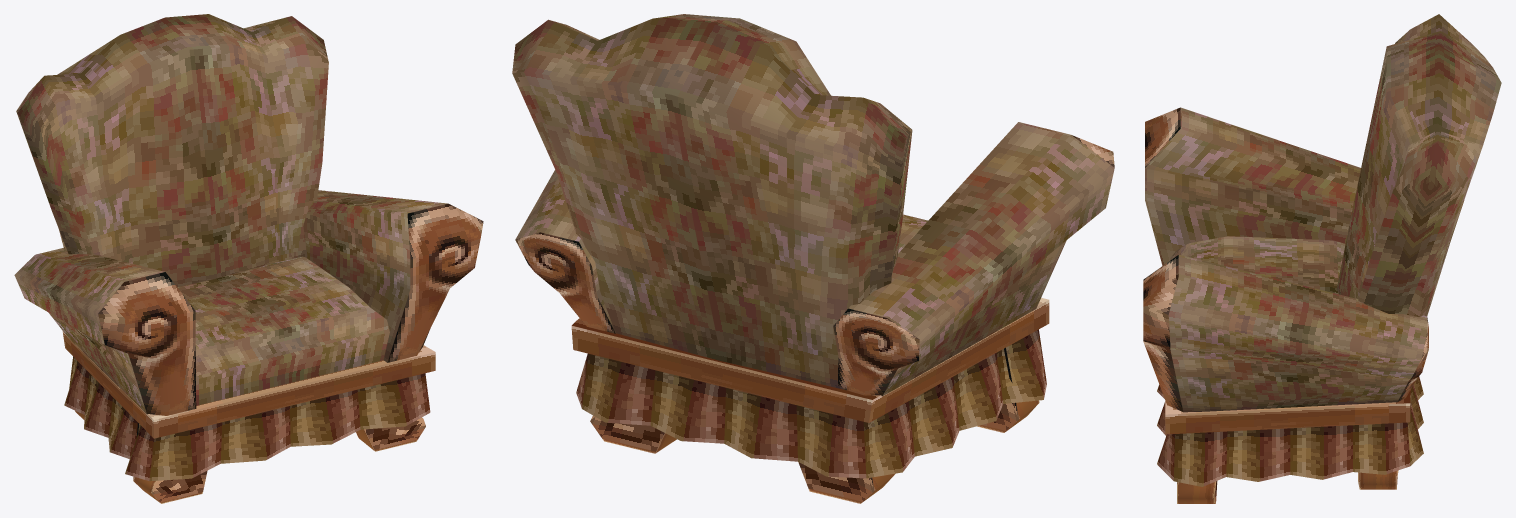
The model's file is o_sofa1.glb.
3 views of the same model, side by side, from view 1: azimuth 30°, elevation 25°; view 2: azimuth 150°, elevation 25°; view 3: azimuth 270°, elevation 25° (orthographic). The views are drawn at different scales.
Visible parts, largest first — view 1: o_sofa1; view 2: o_sofa1; view 3: o_sofa1.
Part boxes in pixels (x1,y1,x2,y2): o_sofa1: (14,14,483,503); o_sofa1: (512,14,1114,503); o_sofa1: (1143,14,1501,503).
Size of the model in its own units: 280 by 255 by 212.
Materials: 5 (5 with a texture image).
